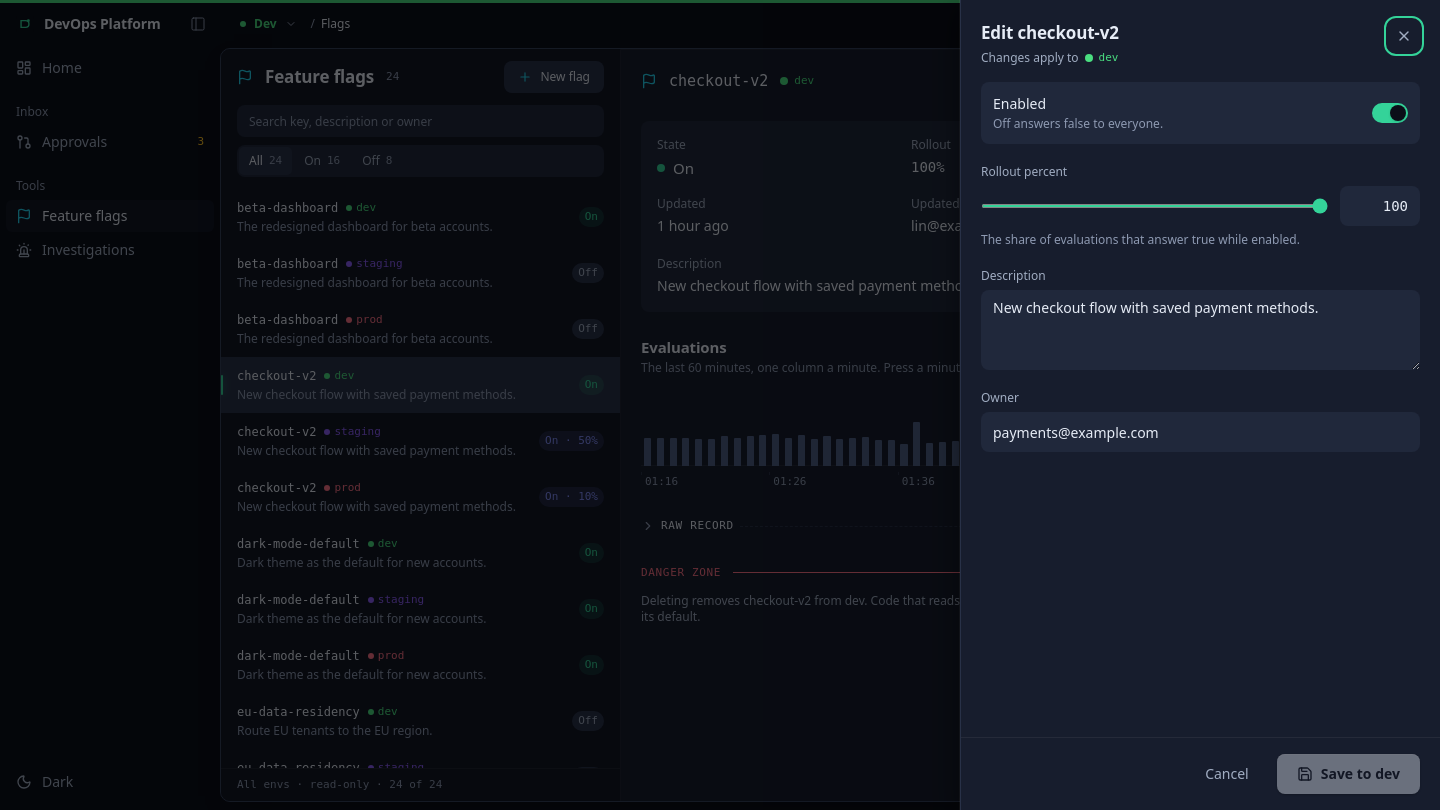
Test: the flag sheet › applies a dev edit directly
Click the switch.
click(1390, 113)  # box [1372,103,1408,123]
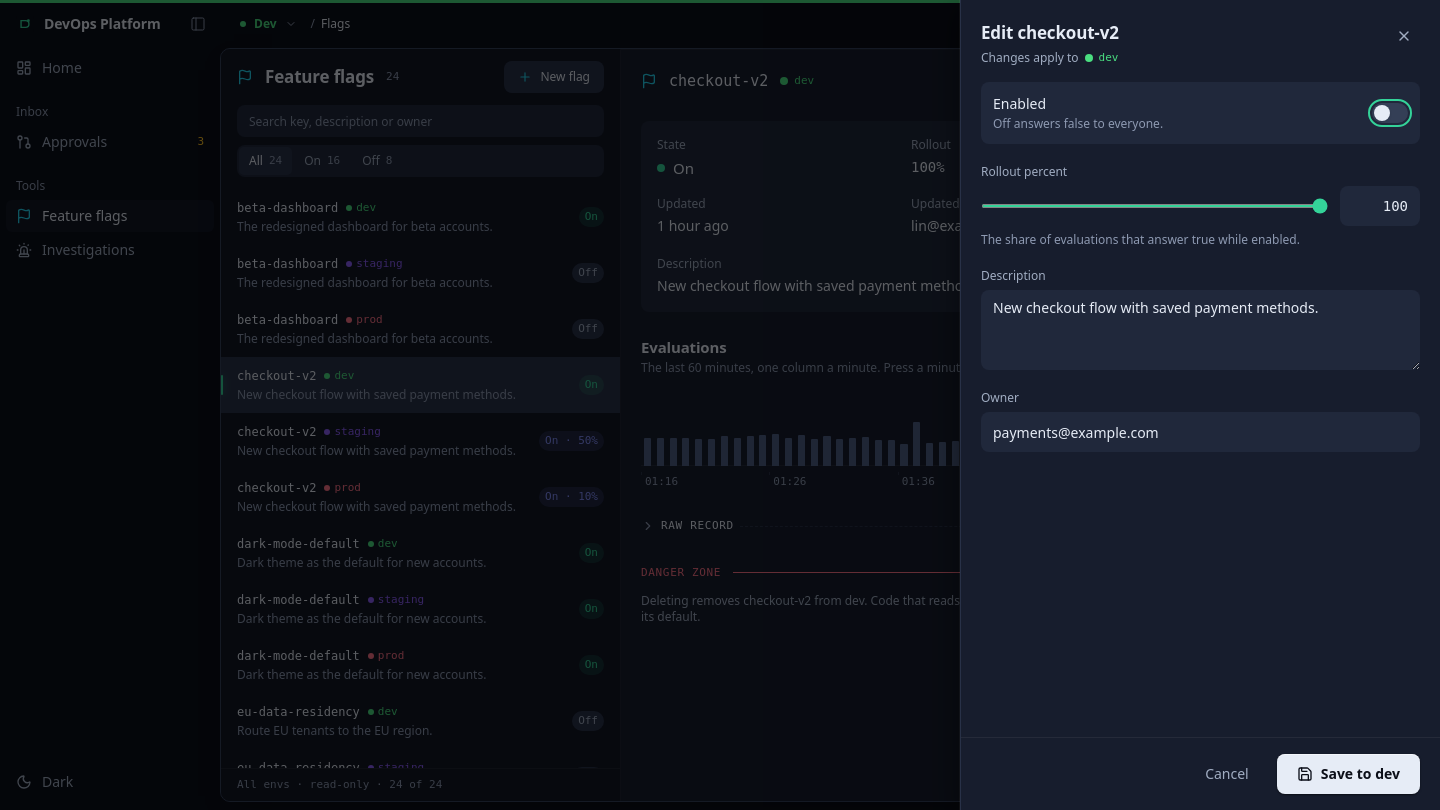
Click the button "Save to dev".
click(1348, 774)  # box [1277,754,1420,794]
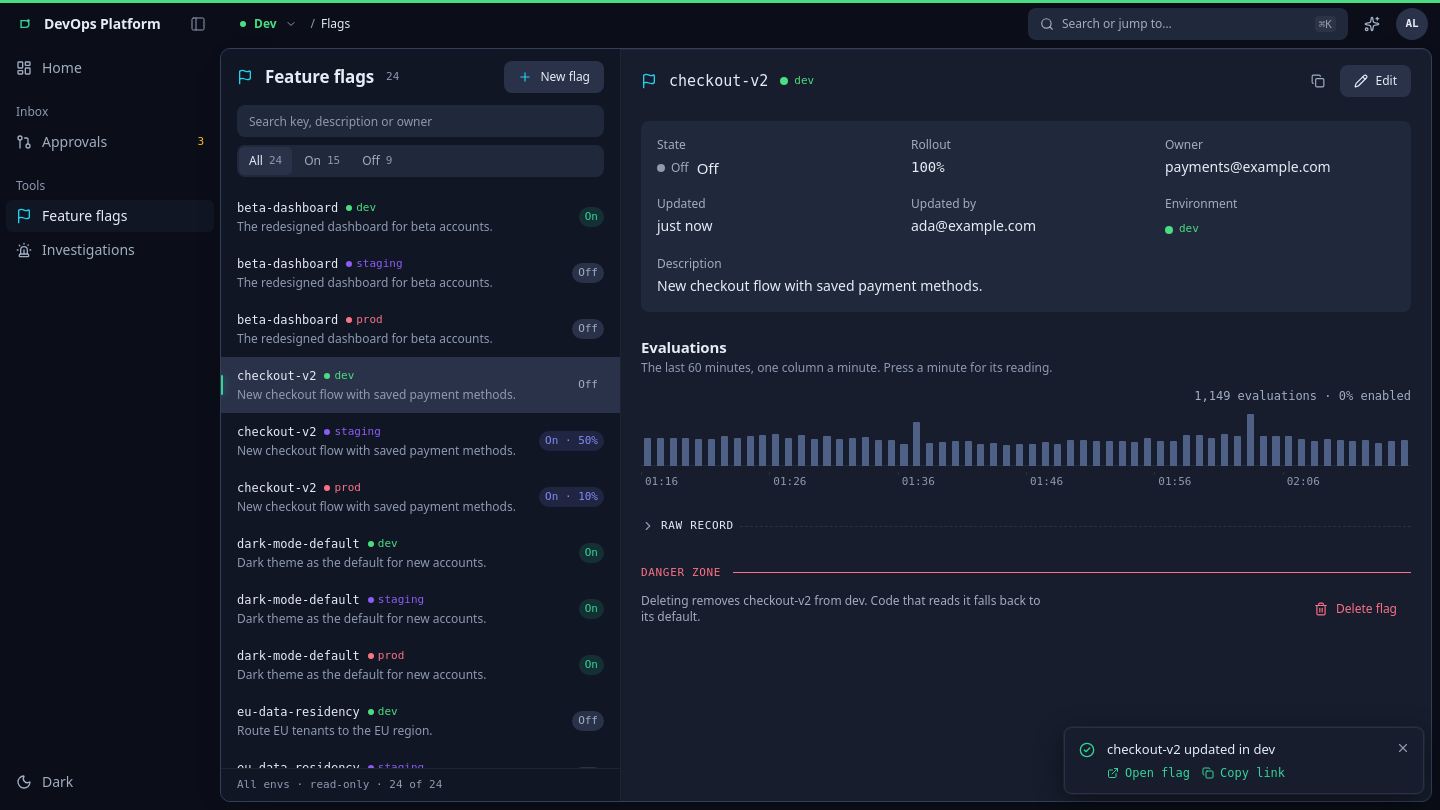
Expected: the text "checkout-v2 updated in dev" is shown, [1107,740,1275,758]
